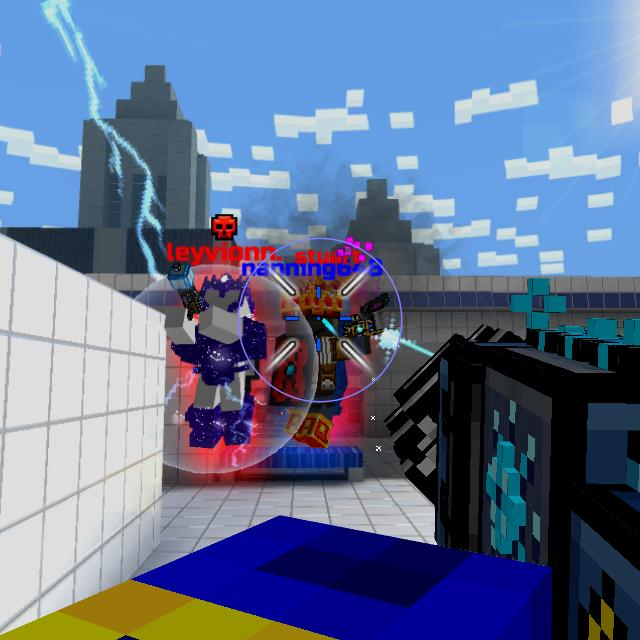Enemy: (165, 272, 267, 449), (280, 295, 372, 448)
